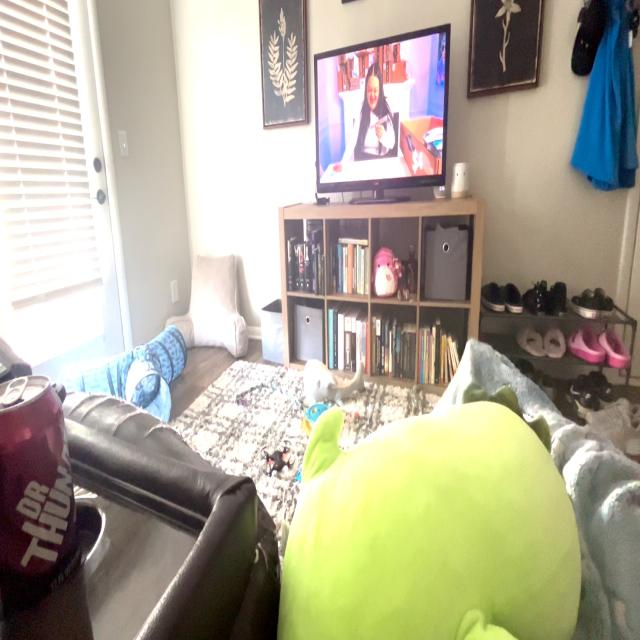drone: (250, 432, 303, 490)
